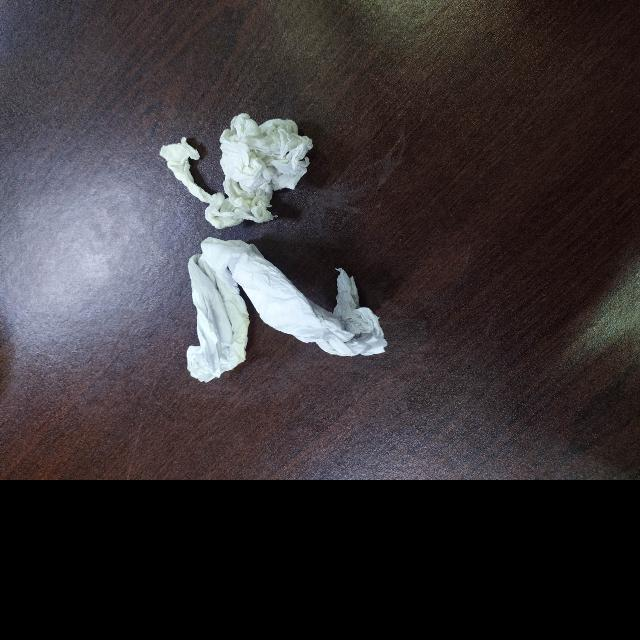kitchen paper: (182, 234, 392, 385), (156, 109, 319, 232)
